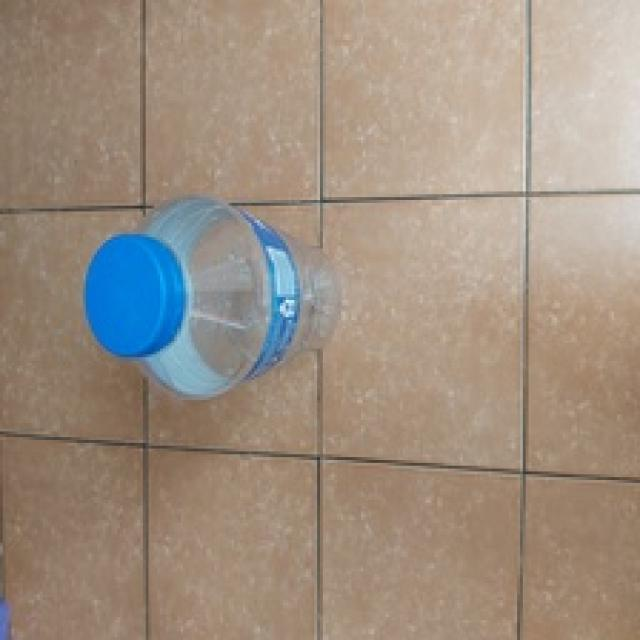Plastic: (89, 194, 338, 400)
